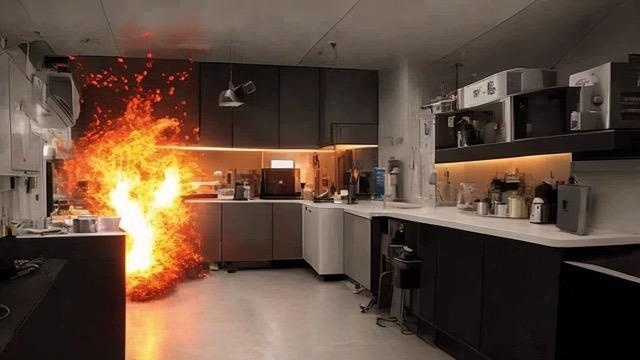fire: (51, 72, 208, 294)
